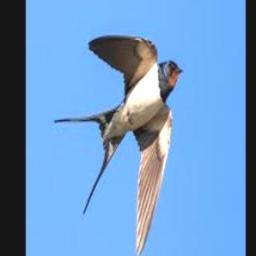Swallow: (54, 34, 183, 255)
